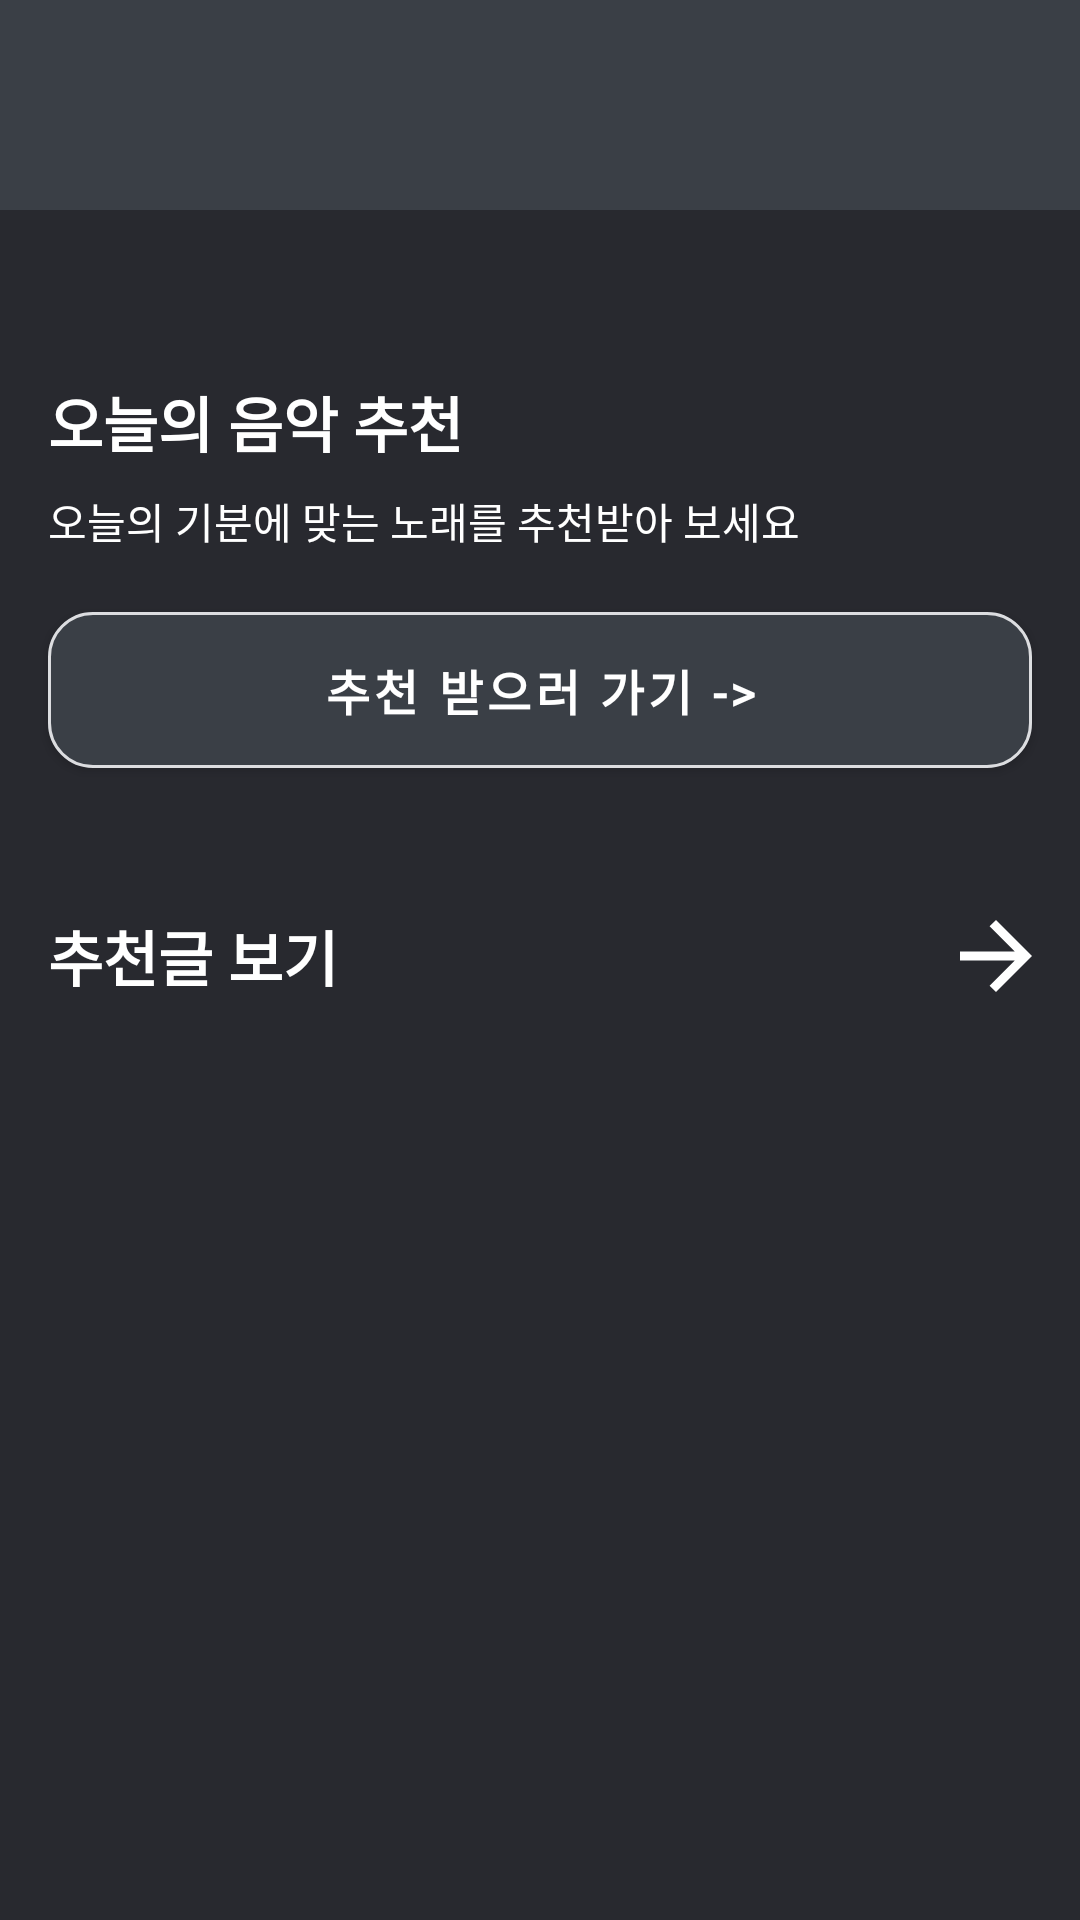

Icons on this 1080x1920 Android screen, each with the point to tap as point (x, y):
arrow forward: point (996, 956)
